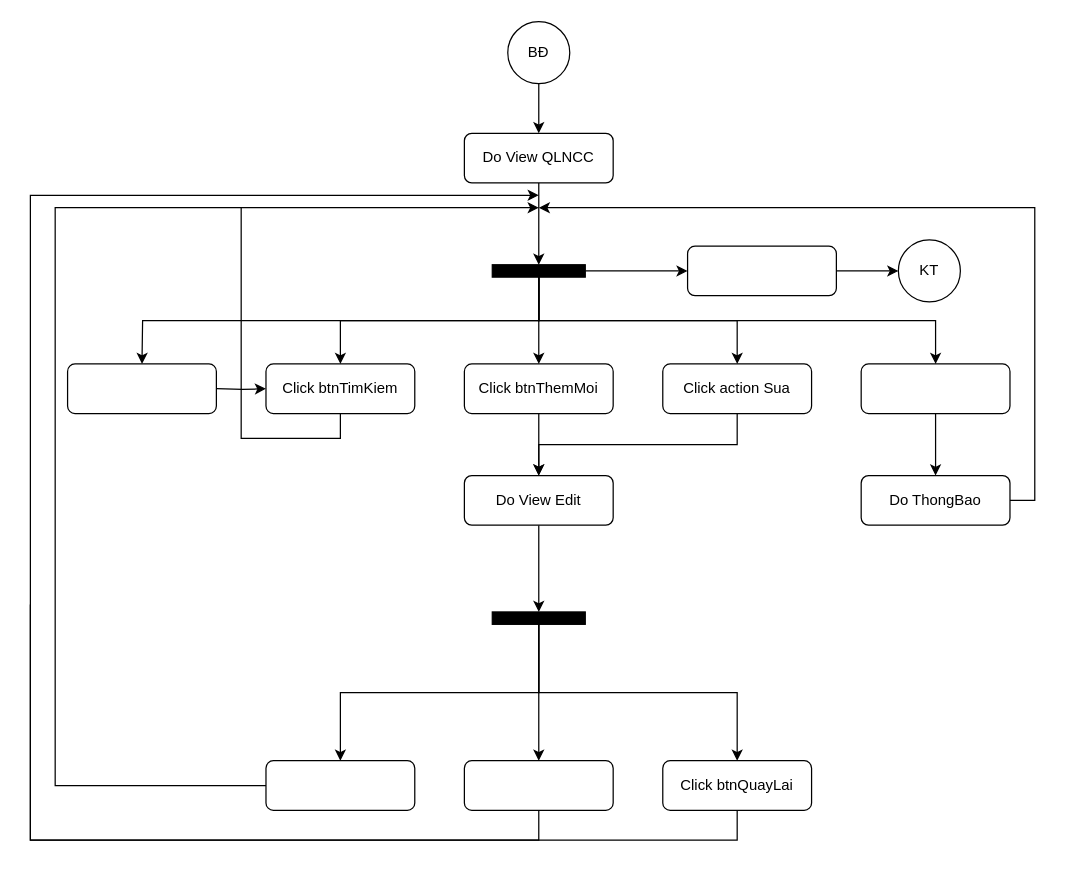
The diagram is 1066 pixels wide and 872 high, and some of its shapes have lost their labels. The centre of each missing label's shape, as x and y in pixels:
Click action Xoa: [935,388]
Click btnHuy: [538,785]
Click btnLuu: [340,785]
Click QuayLai: [761,270]
Click txtTuKhoa: [141,388]
